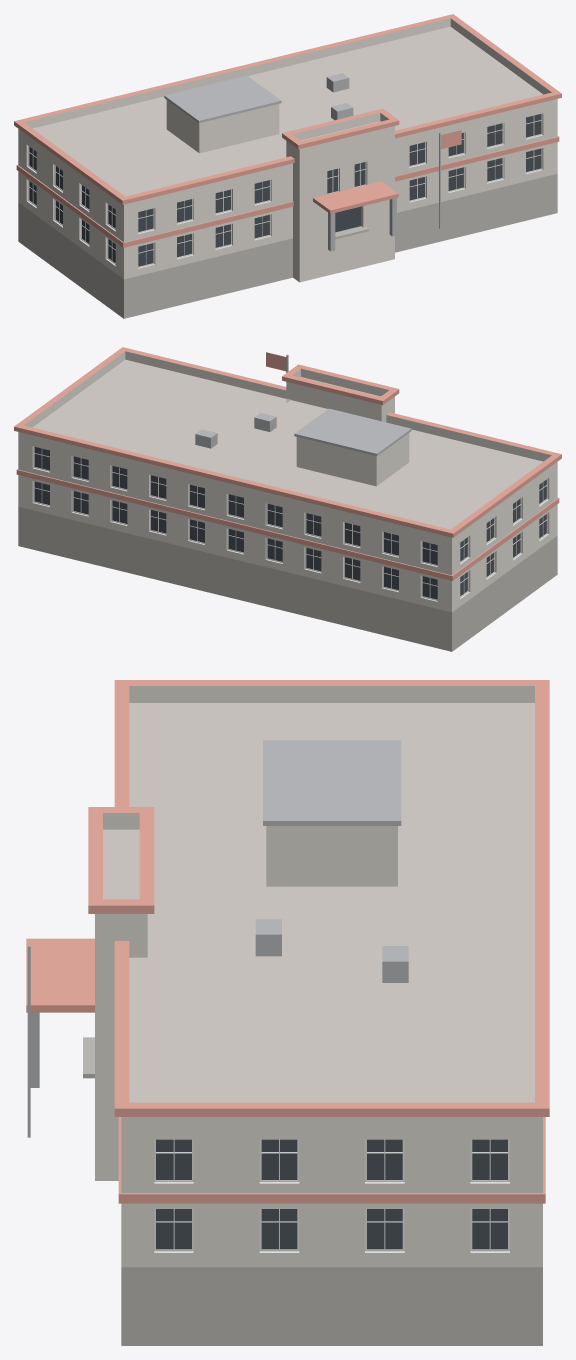
Rendered from public_flat_2_l.glb.
3 renders of one model, top to bottom at view 1: azimuth 30°, elevation 25°; view 2: azimuth 150°, elevation 25°; view 3: azimuth 270°, elevation 25°, orthographic. The views are drawn at different scales.
Parts seen in each view (by area): view 1: public_flat_2_l; view 2: public_flat_2_l; view 3: public_flat_2_l.
Boxes of the visible parts, x1,y1,x2,y2 form: public_flat_2_l: (14,14,561,318); public_flat_2_l: (14,347,561,651); public_flat_2_l: (26,680,549,1345).
Bounding box in the file's own units: 38.5 × 12.15 × 19.85.
